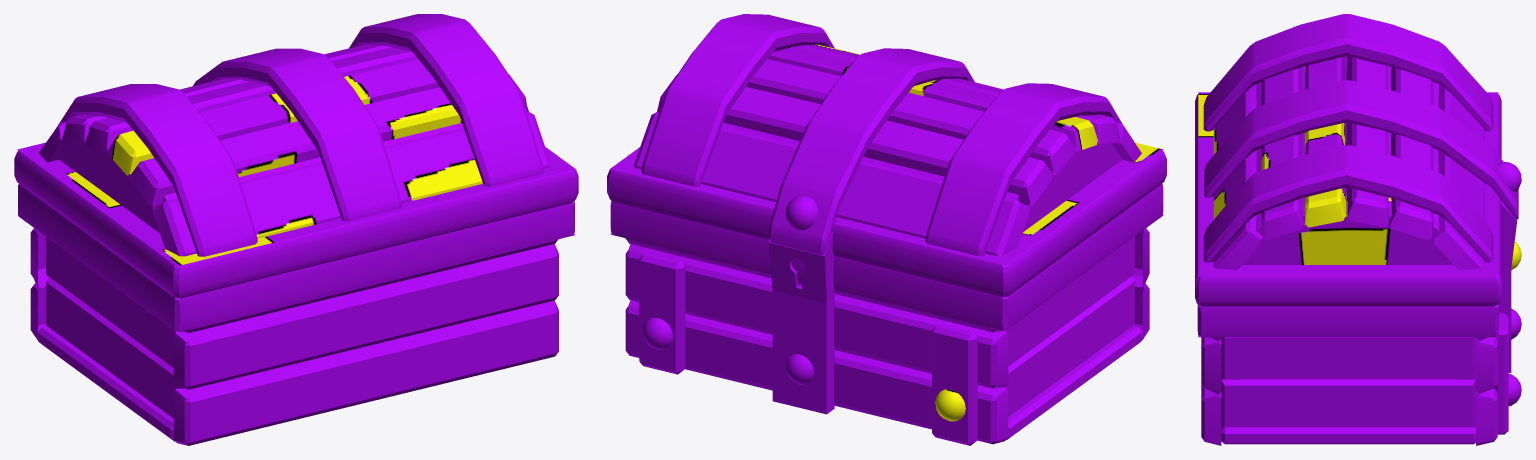
The model's file is cofre.FBX.
3 renders of one model, left to right at view 1: azimuth 30°, elevation 25°; view 2: azimuth 150°, elevation 25°; view 3: azimuth 270°, elevation 25°, orthographic. The views are drawn at different scales.
Visible parts, largest first — view 1: asfsf001; view 2: asfsf001; view 3: asfsf001.
Boxes of the visible parts, <box> form: asfsf001: <box>14,14,578,445</box>; asfsf001: <box>607,14,1166,445</box>; asfsf001: <box>1195,14,1521,445</box>.
Bounding box in the file's own units: 105 × 71.32 × 78.34.
